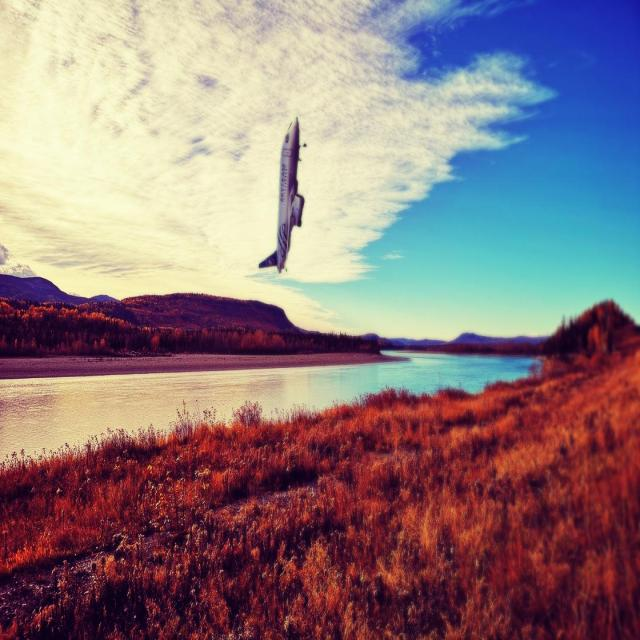airplane: (258, 116, 306, 273)
